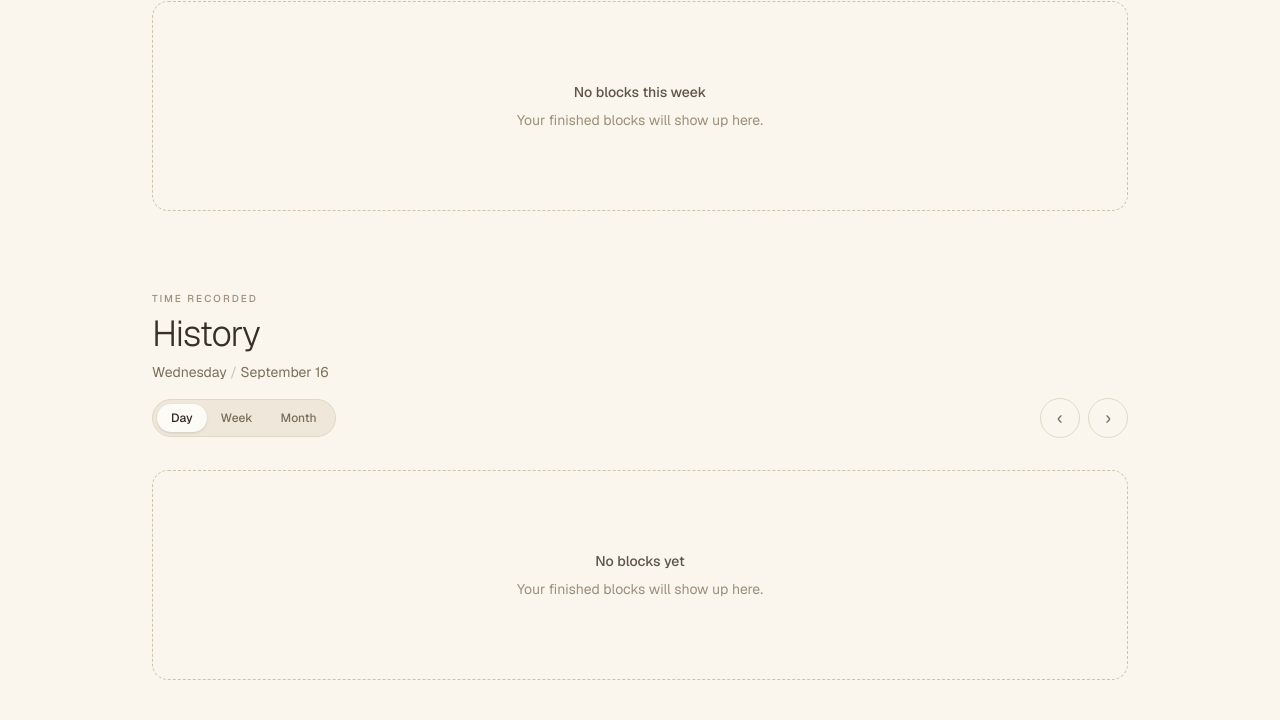
it: HistoryPage view switch (SCR-20) › Month asks for the calendar-month range
(page scrolled)
Click the button "Month" at (299, 418), box [267,404,331,432]
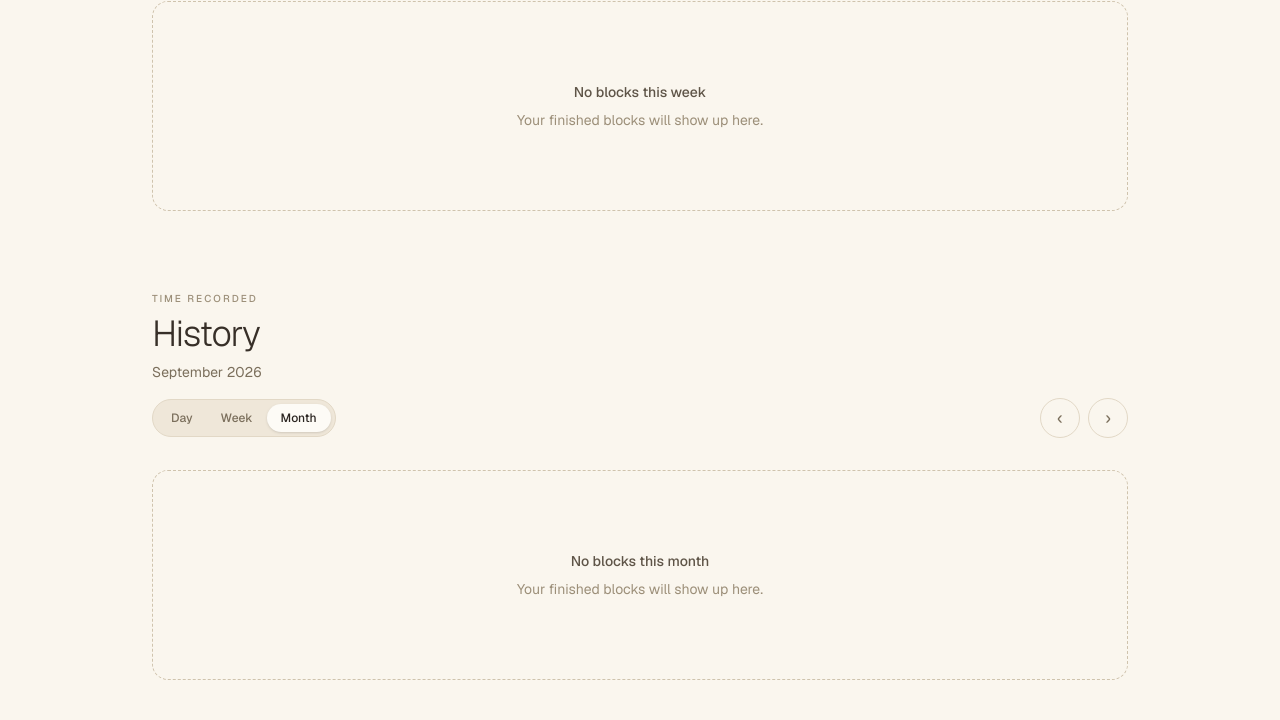
Result: the text "September 2026" is shown at [152,363,262,381]
